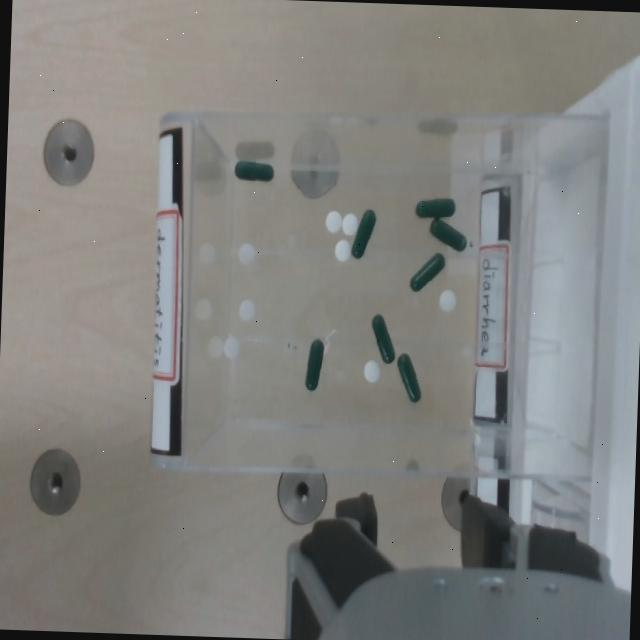ganakan_tab: (361, 356, 380, 384), (332, 237, 351, 262), (323, 207, 341, 233), (340, 211, 358, 236), (236, 240, 254, 265), (437, 287, 455, 311), (222, 333, 239, 358), (237, 297, 255, 320)
monodoxy_cap: (408, 249, 444, 293), (349, 207, 376, 260), (395, 351, 422, 403), (368, 312, 395, 364), (427, 216, 467, 251), (408, 251, 443, 289), (349, 207, 374, 256), (429, 216, 465, 249), (370, 312, 393, 361), (396, 352, 419, 400), (303, 336, 323, 390), (414, 193, 456, 218), (234, 157, 275, 182), (303, 338, 322, 389), (233, 158, 272, 179), (414, 197, 453, 218)
